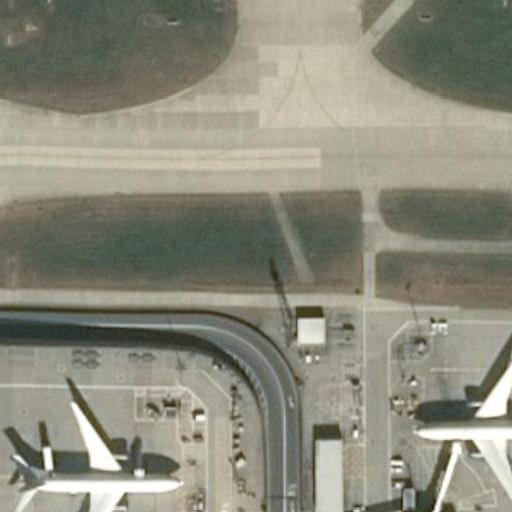Aircraft: (13, 394, 180, 512), (406, 338, 512, 512)
